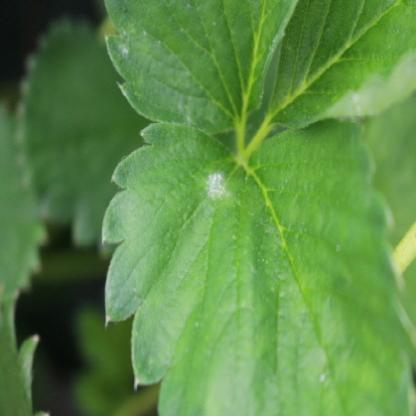Strawberry_Powdery_Mildew_Leaf: (100, 117, 416, 415), (103, 0, 300, 134)
